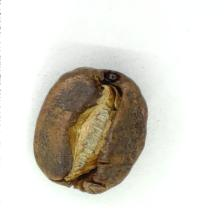NG: (62, 70, 128, 182)
